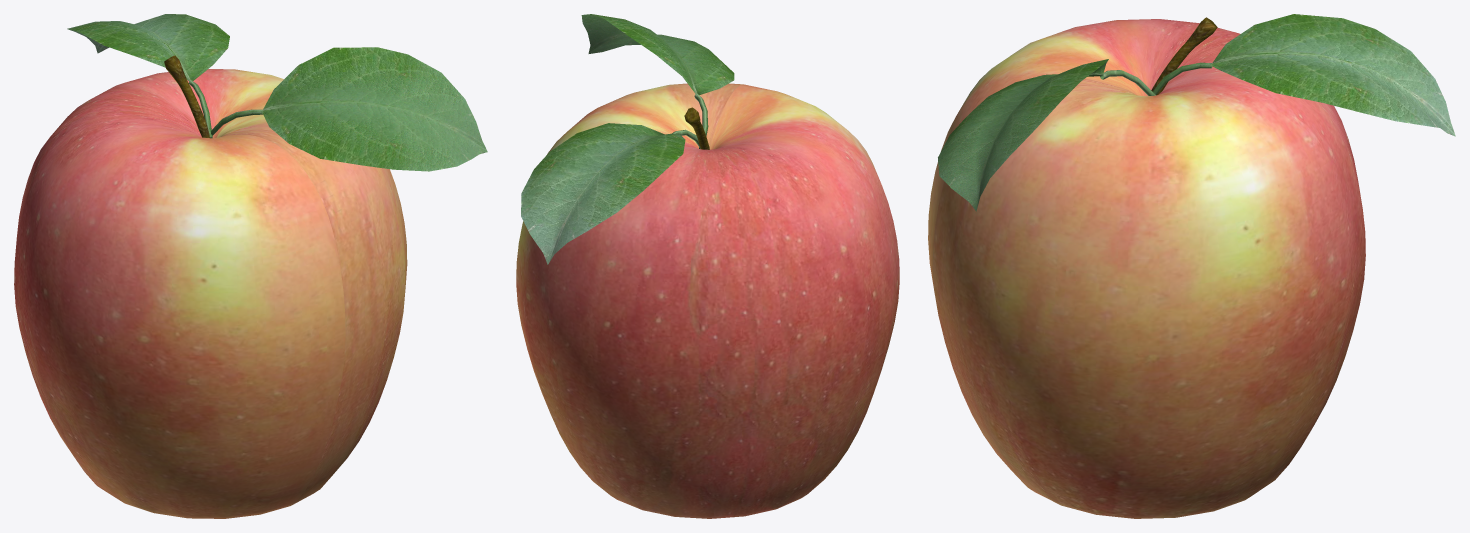
The model's file is pingguo1.fbx.
The picture shows the model from 3 angles, left to right: view 1: azimuth 30°, elevation 25°; view 2: azimuth 150°, elevation 25°; view 3: azimuth 270°, elevation 25°; orthographic projection. The views are drawn at different scales.
Parts seen in each view (by area): view 1: Model_002_Apple_16, Model_002_Apple_21, Model_002_Apple_22, Model_002_Apple_15; view 2: Model_002_Apple_16, Model_002_Apple_22, Model_002_Apple_21, Model_002_Apple_15; view 3: Model_002_Apple_16, Model_002_Apple_22, Model_002_Apple_21, Model_002_Apple_15.
Boxes of the visible parts, <box> form: Model_002_Apple_16: <box>14,69,407,518</box>; Model_002_Apple_21: <box>211,47,487,171</box>; Model_002_Apple_22: <box>67,14,229,138</box>; Model_002_Apple_15: <box>164,55,210,138</box>; Model_002_Apple_16: <box>516,83,899,518</box>; Model_002_Apple_22: <box>521,123,700,264</box>; Model_002_Apple_21: <box>581,14,734,148</box>; Model_002_Apple_15: <box>684,107,709,149</box>; Model_002_Apple_16: <box>928,19,1365,518</box>; Model_002_Apple_22: <box>1152,14,1455,136</box>; Model_002_Apple_21: <box>938,59,1155,211</box>; Model_002_Apple_15: <box>1151,17,1217,95</box>.
Bounding box in the file's own units: 8.09 × 8.71 × 8.98.
